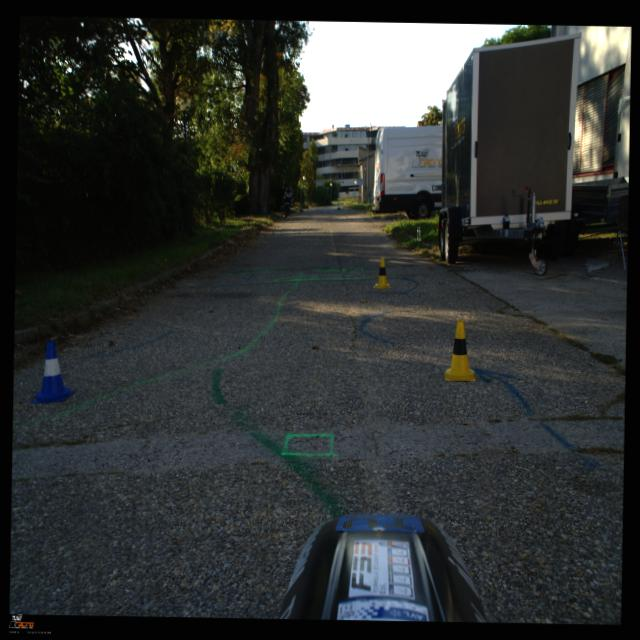blue_cone: (28, 339, 76, 404)
yellow_cone: (444, 318, 476, 382), (372, 256, 392, 289)
